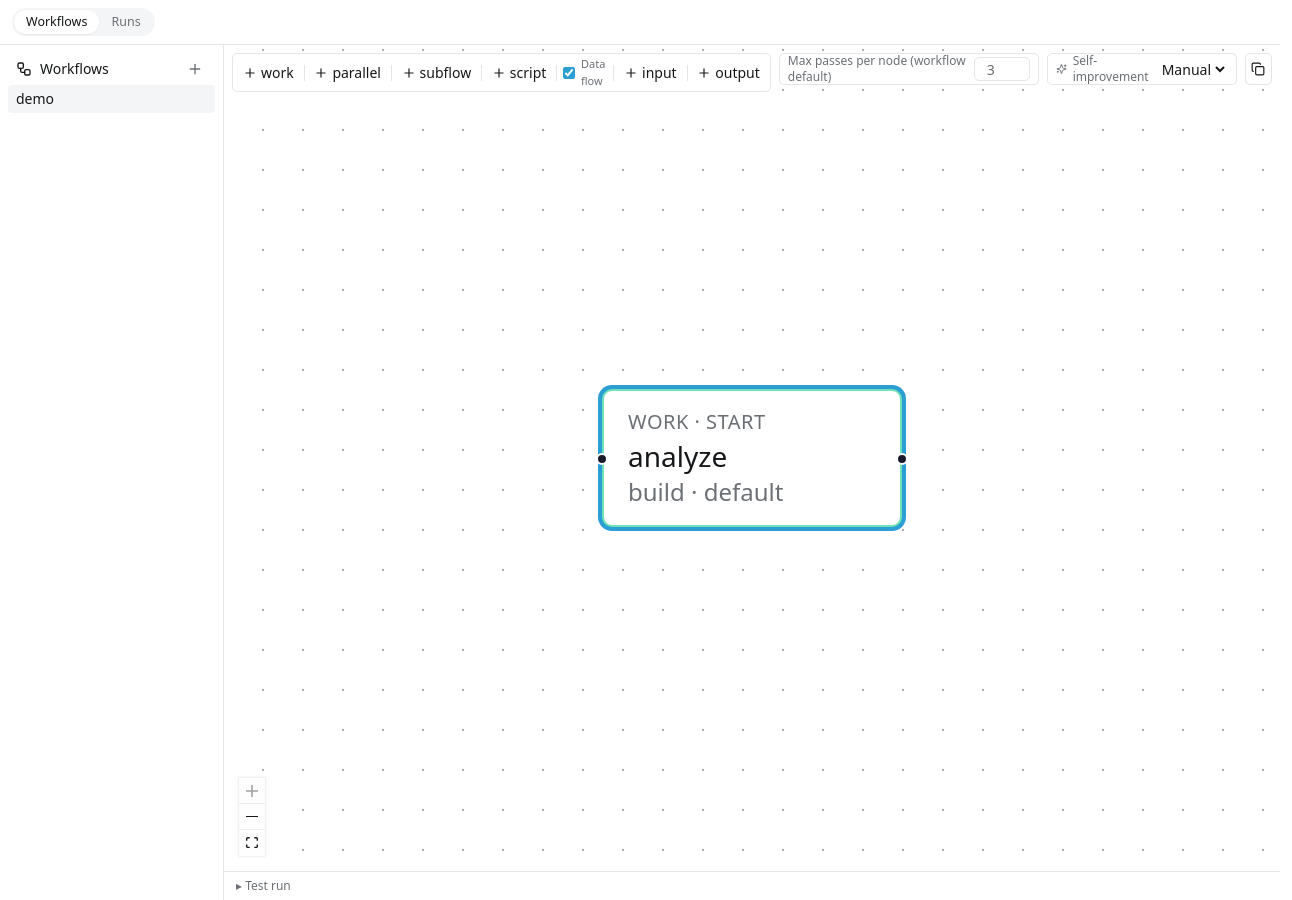
hides re-entries entirely while the node has no turn budget
Click the text "analyze". click: (678,456)
box: [628, 437, 727, 475]
(page scrolled)
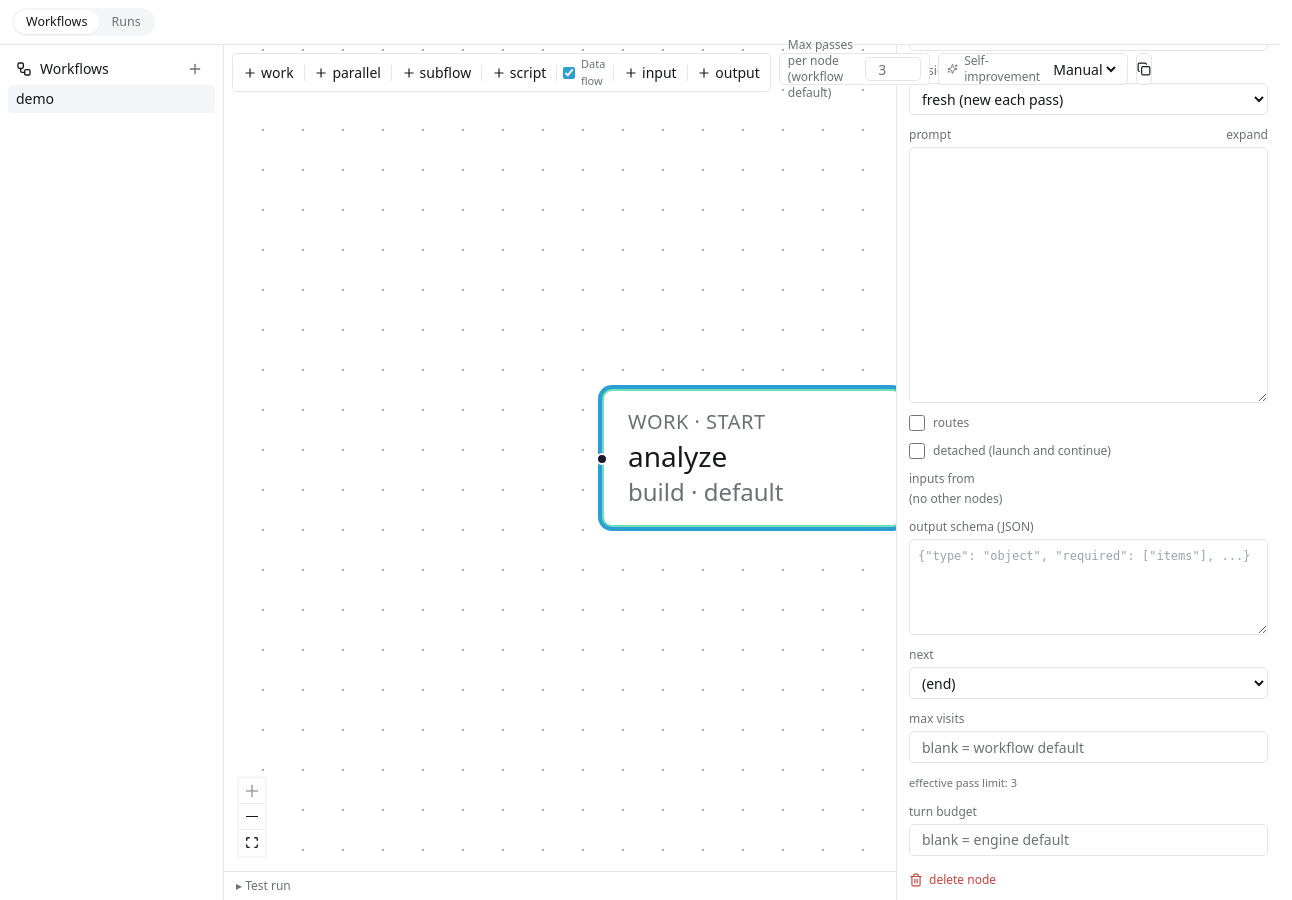
Now the text "turn budget" is shown, box [909, 802, 977, 820]
